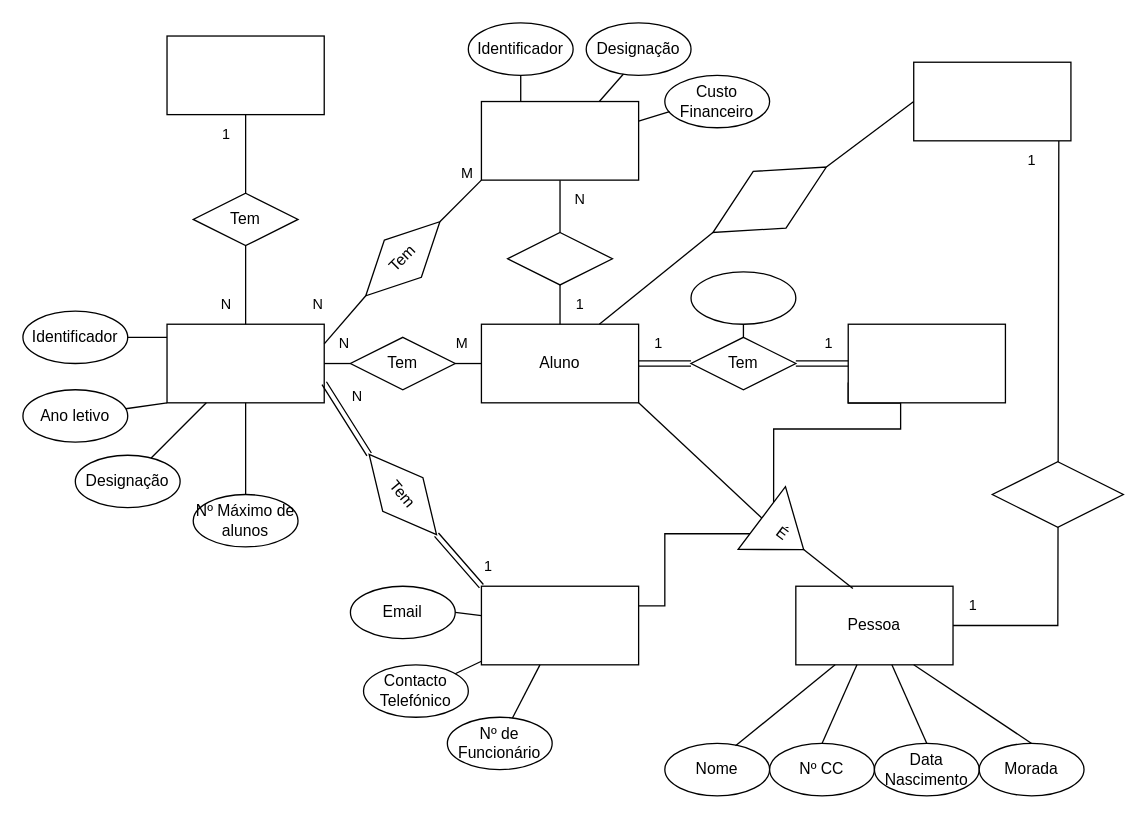
The diagram is 1146 pixels wide and 819 high, and some of its shapes have lost their labels. The shapes that lost their labels are listed below. From the top down, each one's centre as x and y in pixels, then its label:
At point (245, 75): "ATL".
At point (991, 101): "Lista de pessoas autorizadas".
At point (559, 140): "Atividade".
At point (769, 199): "Entrega/Levanta".
At point (559, 258): "Frequenta".
At point (743, 297): "Relação".
At point (245, 363): "Turmas".
At point (926, 363): "Encarregado de Educação".
At point (1057, 493): "Pertence".
At point (559, 625): "Professor".
